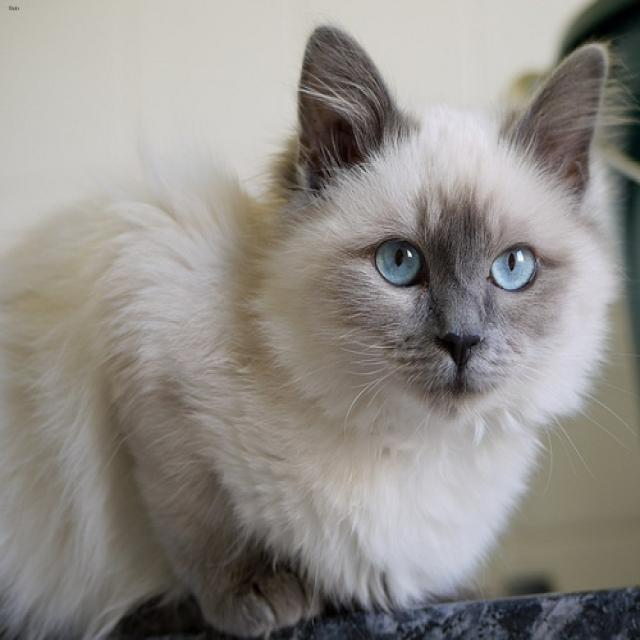Ragdoll: (298, 25, 608, 420)
